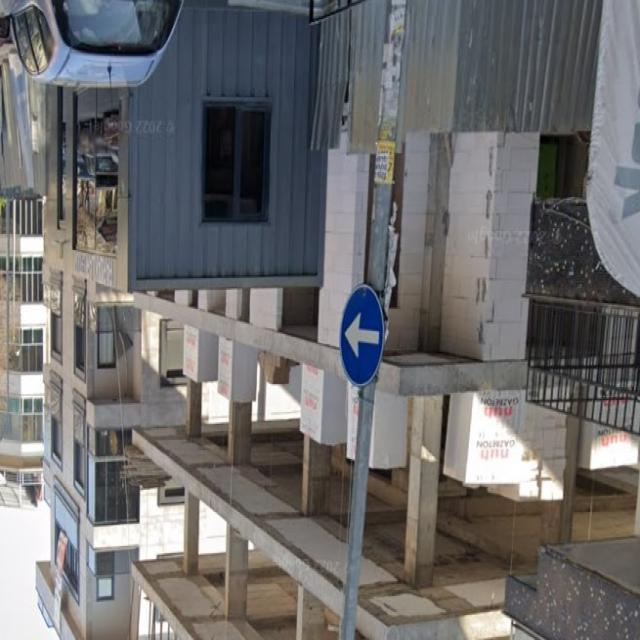Turn Left: (341, 286, 386, 382)
